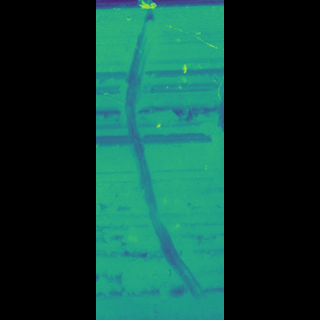Loch: (138, 0, 182, 315)
